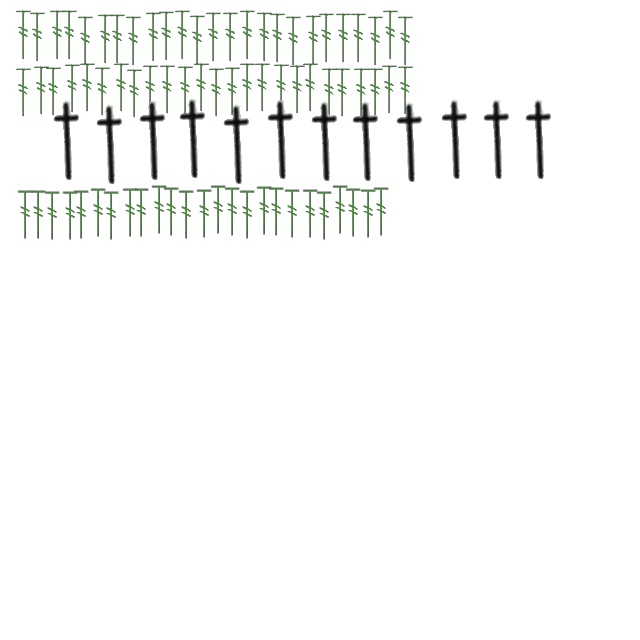enseble_chain: (44, 100, 92, 182), (87, 104, 135, 186), (130, 100, 178, 182), (170, 98, 218, 180), (214, 104, 262, 186), (258, 99, 306, 181), (302, 101, 350, 183), (343, 101, 391, 183), (387, 102, 435, 184), (432, 99, 480, 181), (474, 99, 522, 181), (516, 99, 564, 181)
fan: (14, 8, 34, 62), (28, 10, 48, 64), (48, 8, 68, 62), (60, 8, 80, 62), (76, 14, 96, 68), (96, 12, 116, 66), (108, 12, 128, 66), (124, 14, 144, 68), (144, 10, 164, 64), (188, 13, 208, 67), (204, 10, 224, 64), (238, 8, 258, 62), (268, 11, 288, 65), (284, 14, 304, 68), (304, 13, 324, 67), (334, 11, 354, 65), (366, 14, 386, 68), (396, 14, 416, 68), (14, 66, 34, 120), (32, 64, 52, 118), (176, 64, 196, 118), (272, 62, 292, 116), (320, 66, 340, 120), (352, 66, 372, 120), (366, 66, 386, 120), (396, 64, 416, 118), (44, 66, 64, 118), (78, 62, 98, 114), (112, 62, 132, 114), (158, 64, 178, 116), (192, 62, 212, 114), (238, 62, 258, 114), (288, 64, 308, 116), (380, 64, 400, 116), (102, 190, 122, 242), (150, 184, 170, 236), (162, 186, 182, 238), (372, 186, 392, 238), (16, 190, 36, 240), (72, 190, 92, 240), (132, 188, 152, 238), (238, 190, 258, 240), (344, 188, 364, 238), (158, 9, 176, 63), (174, 8, 192, 62), (222, 10, 240, 64), (256, 10, 274, 64), (318, 11, 336, 65), (350, 11, 368, 65), (382, 8, 400, 62), (64, 62, 82, 116), (208, 66, 226, 120), (334, 66, 352, 120), (94, 66, 112, 118), (126, 68, 144, 120), (142, 64, 160, 116), (224, 66, 242, 118), (254, 62, 272, 114), (302, 62, 320, 114), (44, 190, 62, 242), (62, 190, 80, 242), (196, 188, 214, 240), (210, 184, 228, 236), (224, 186, 242, 238), (268, 186, 286, 238), (284, 188, 302, 240), (302, 188, 320, 240), (316, 190, 334, 242), (332, 184, 350, 236), (360, 188, 378, 240), (30, 190, 48, 240), (90, 188, 108, 238), (122, 188, 140, 238), (178, 190, 196, 240), (256, 186, 274, 236)
